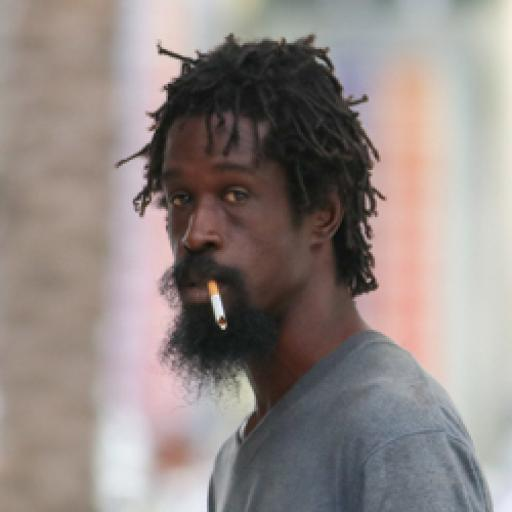membakar rokok: (159, 150, 283, 351)
